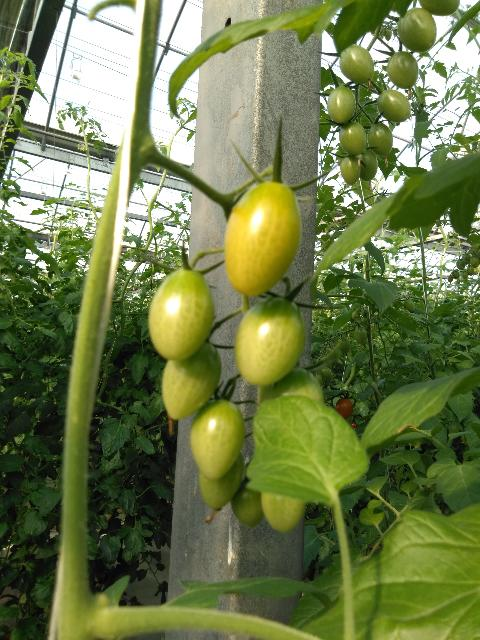l_fully_ripened: (336, 398, 353, 419)
l_green: (234, 297, 306, 385), (148, 269, 214, 360), (161, 341, 221, 420), (189, 399, 245, 480), (258, 365, 324, 407), (198, 450, 243, 510), (261, 492, 306, 533), (397, 7, 437, 53), (231, 480, 265, 527), (339, 44, 375, 84), (386, 50, 419, 90), (377, 89, 412, 122), (327, 86, 356, 124), (338, 121, 367, 155), (367, 123, 393, 156), (356, 150, 378, 181), (418, 0, 460, 16), (340, 155, 361, 186), (354, 326, 368, 345), (338, 337, 350, 353), (320, 367, 334, 380)
l_half_ripened: (223, 181, 303, 296)
